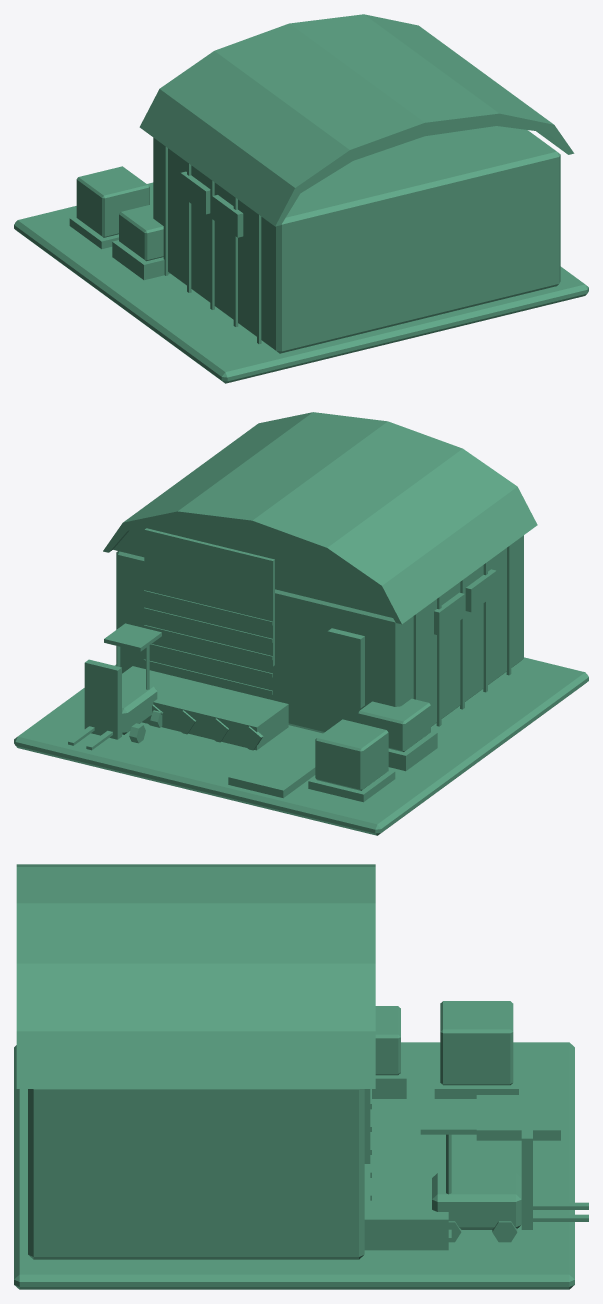
The picture shows the model from 3 angles, top to bottom: view 1: azimuth 30°, elevation 25°; view 2: azimuth 150°, elevation 25°; view 3: azimuth 270°, elevation 25°; orthographic projection. The views are drawn at different scales.
Visible parts, largest first — view 1: corpo; view 2: corpo; view 3: corpo.
Boxes of the visible parts, x1,y1,x2,y2 form: corpo: [14, 14, 588, 383]; corpo: [14, 412, 588, 835]; corpo: [14, 864, 588, 1289].
Size of the model in its own units: 2 by 1.11 by 2.05.
